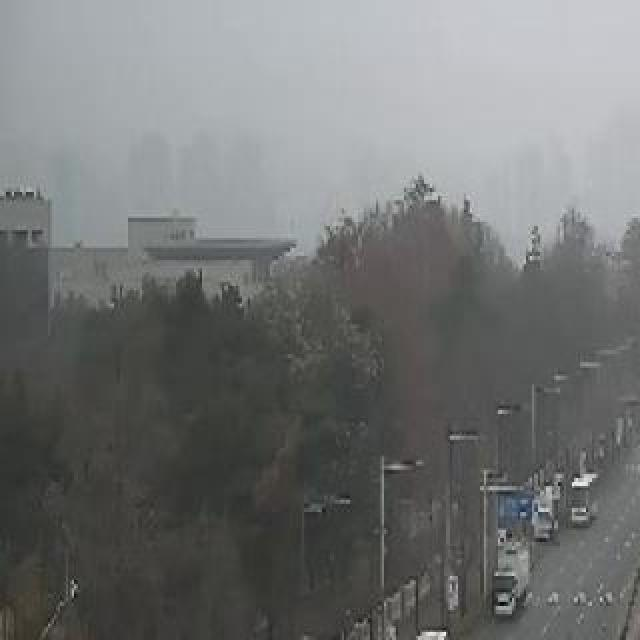truck: (493, 541, 533, 615)
